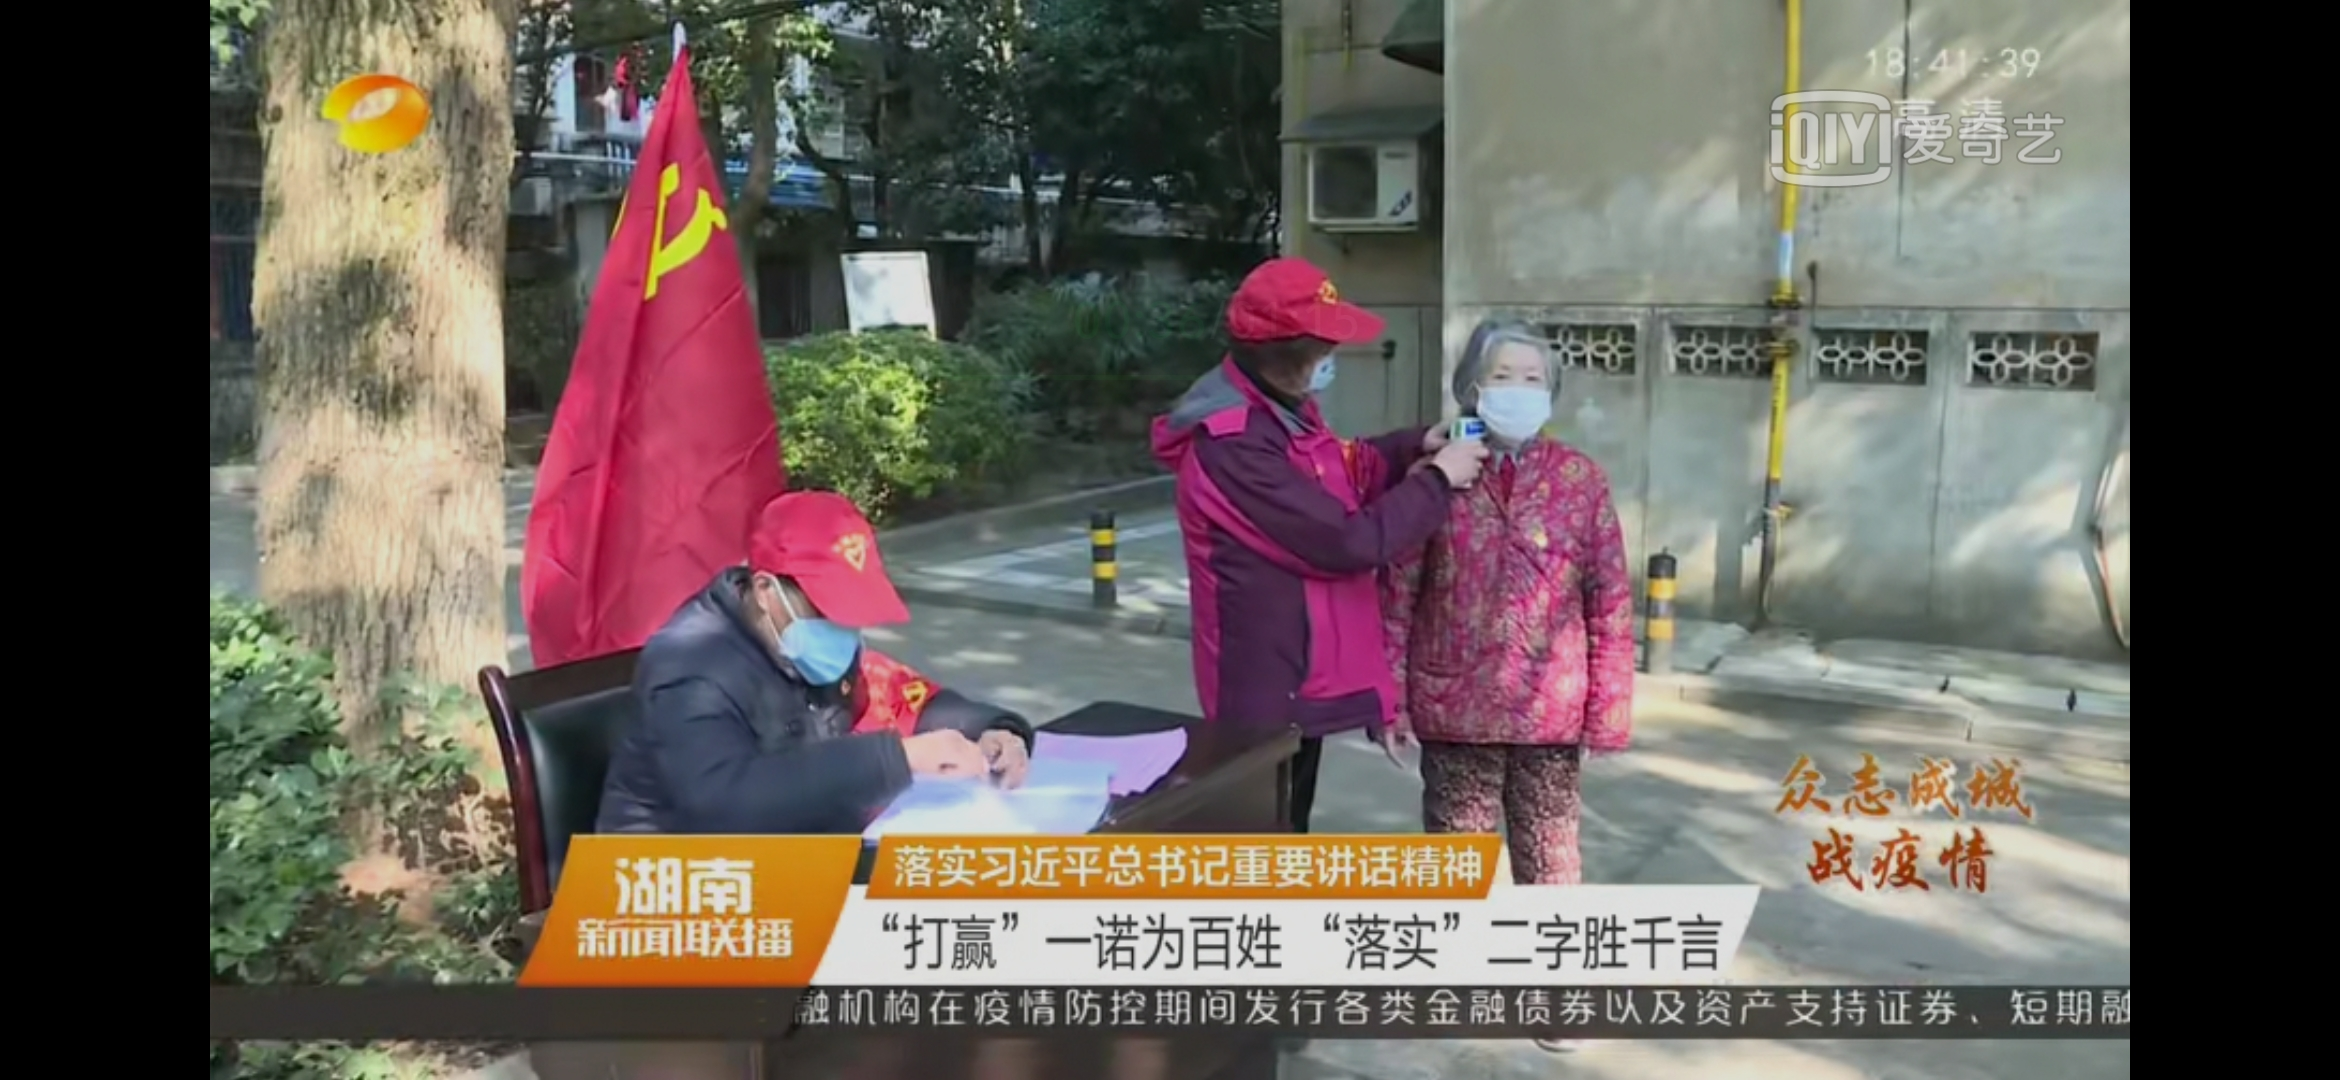correctlyWear: (745, 568, 863, 685), (1467, 352, 1560, 446), (1283, 298, 1348, 395)
